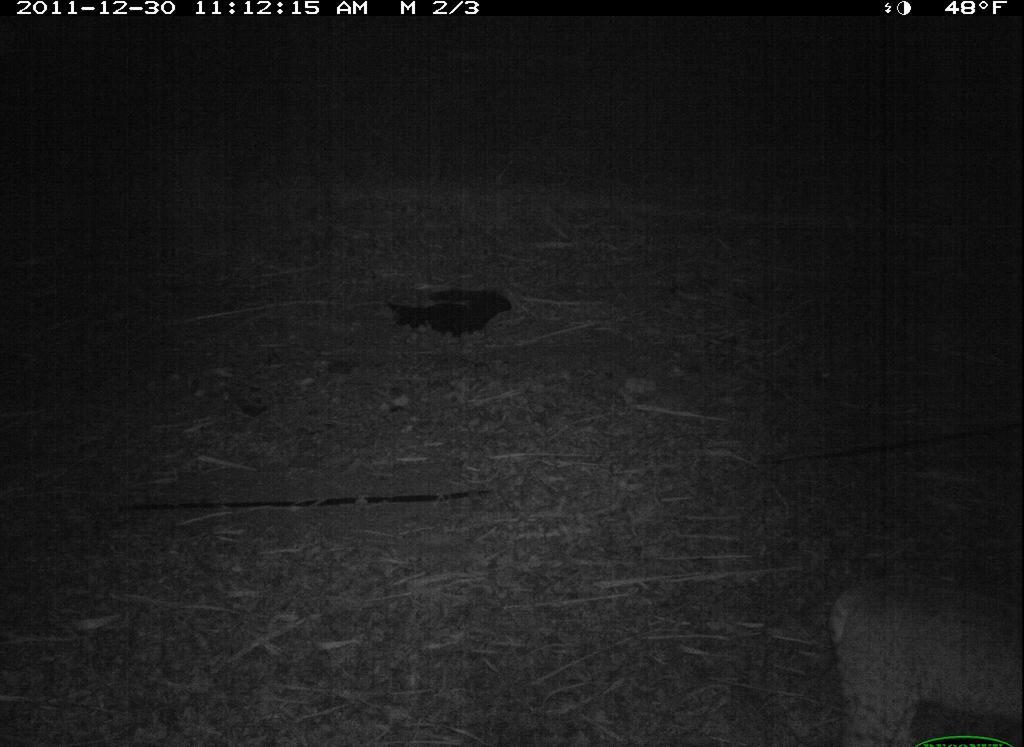bobcat: (807, 565, 1023, 745)
